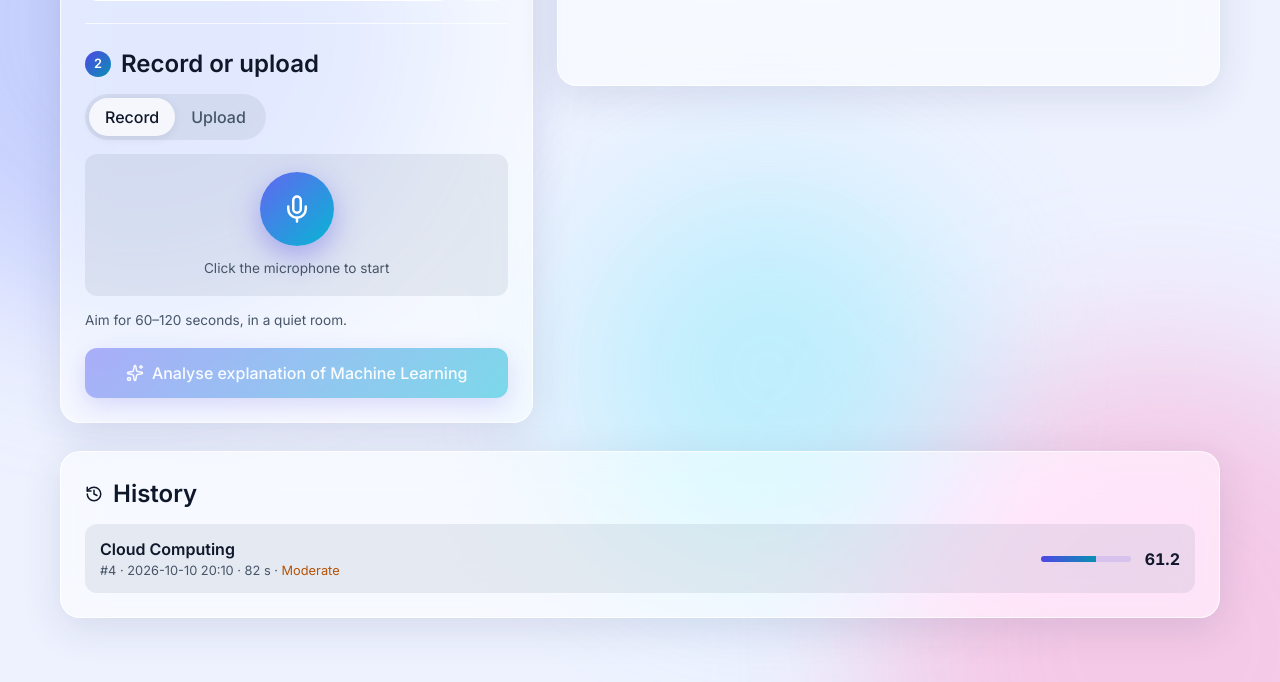
Test: App › opens an attempt from History without reloading
This screenshot has width=1280, height=682.
(page scrolled)
Click the text "61.2".
click(1162, 559)  # box [1145, 547, 1180, 571]
(page scrolled)
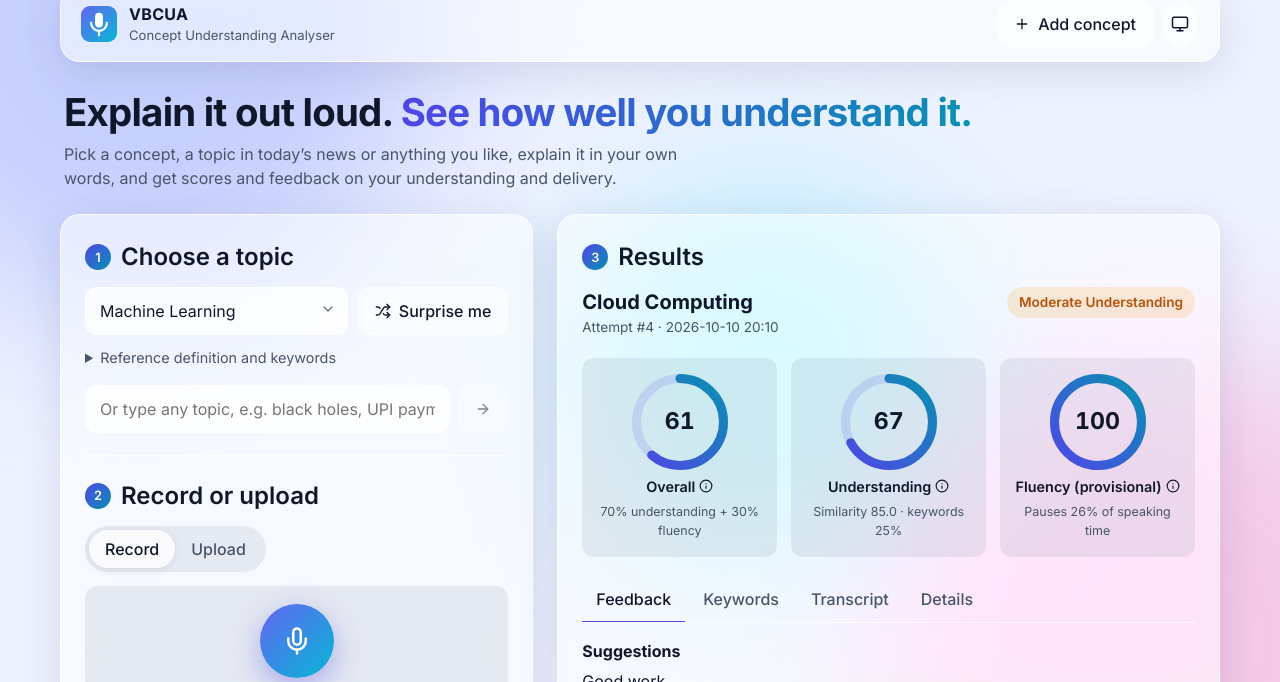
Expected: the heading "Cloud Computing" is shown, [582, 287, 779, 317]
